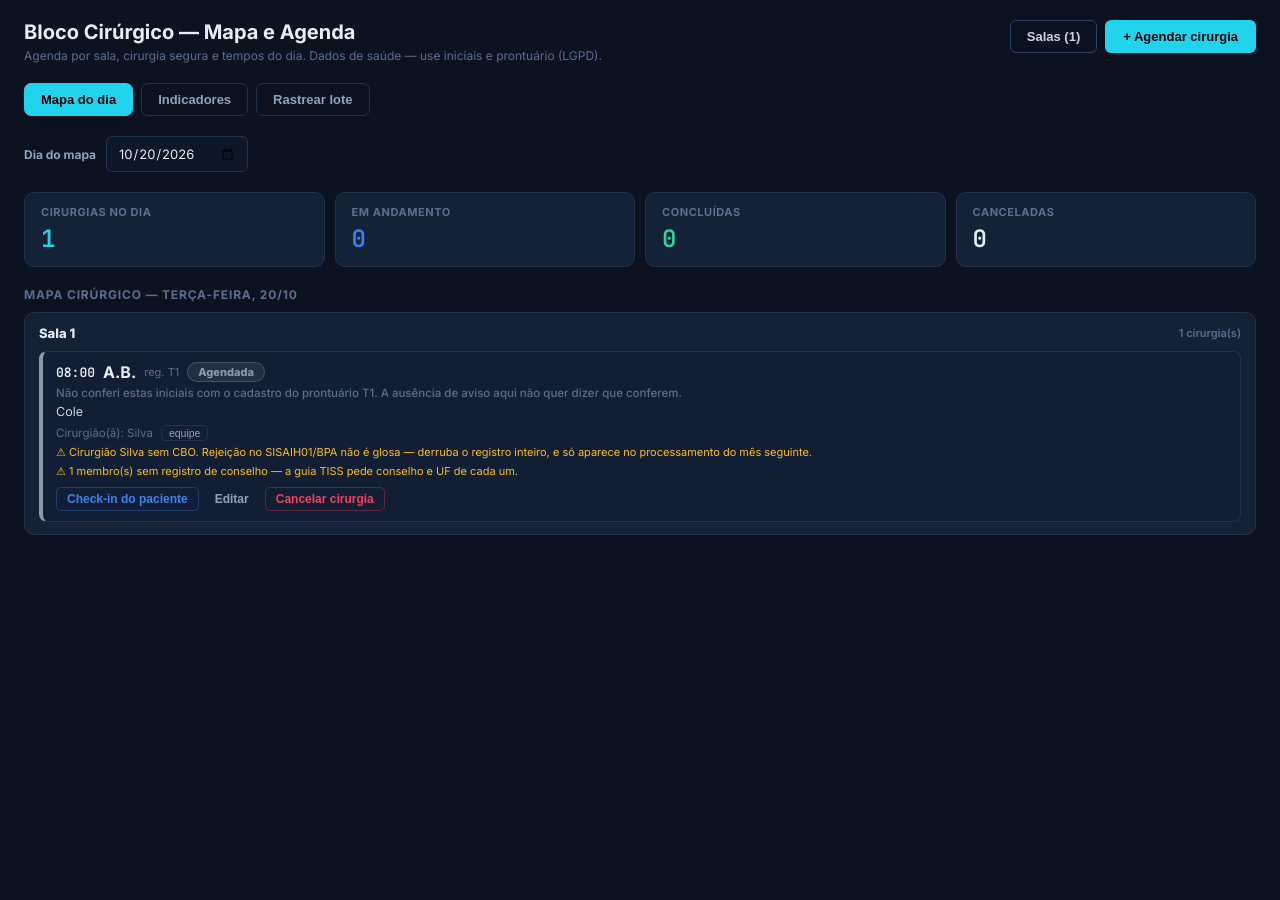
Test case: 🔴 acrescentar membro carimba o CBO do cadastro › 🔴 o segundo cirurgião é recusado ANTES de ir ao banco
Click the button "equipe": click(185, 433) 161,425 -> 208,441
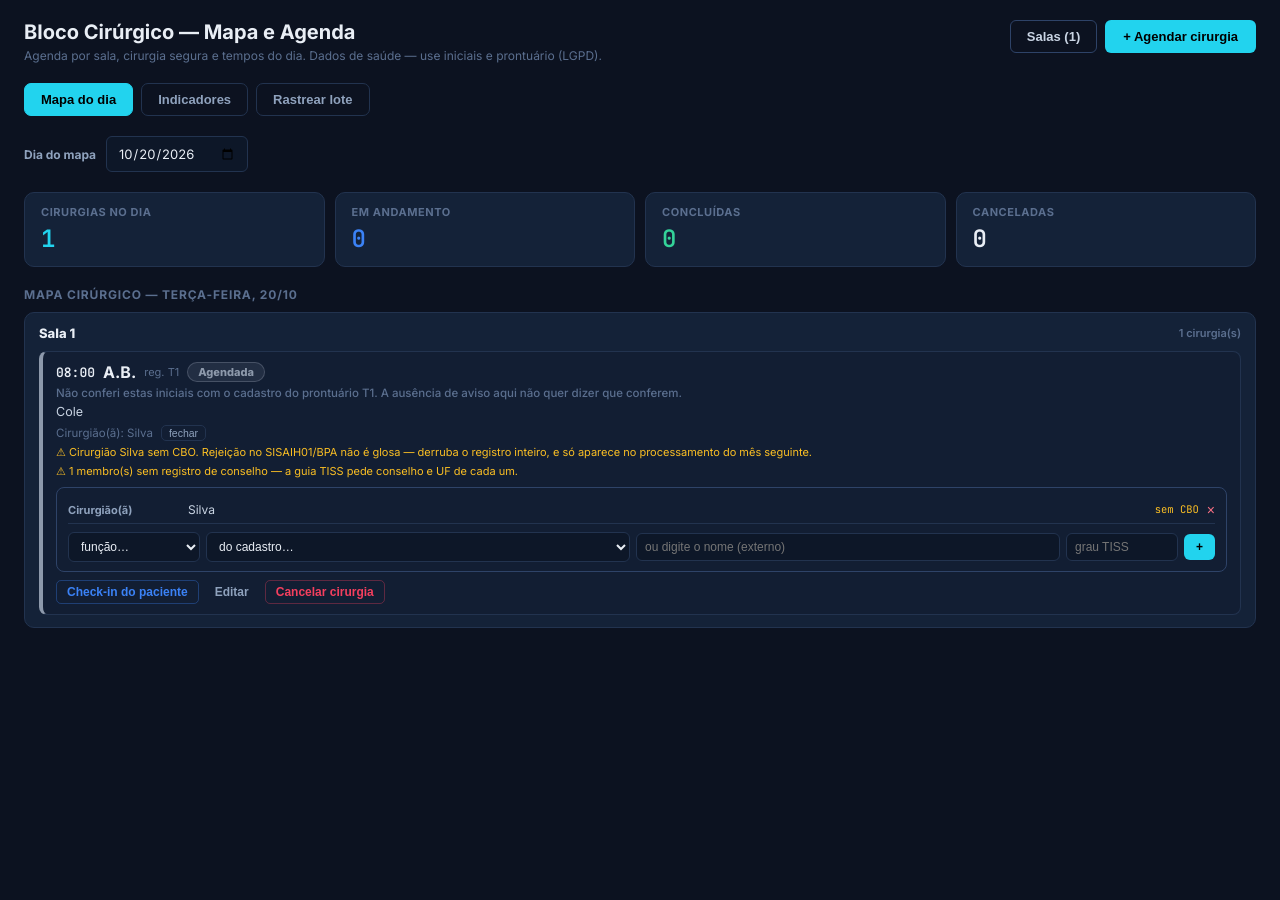
Select "Cirurgião(ã)" in the dropdown named "Função na sala": (134, 547) 68,532 -> 200,562
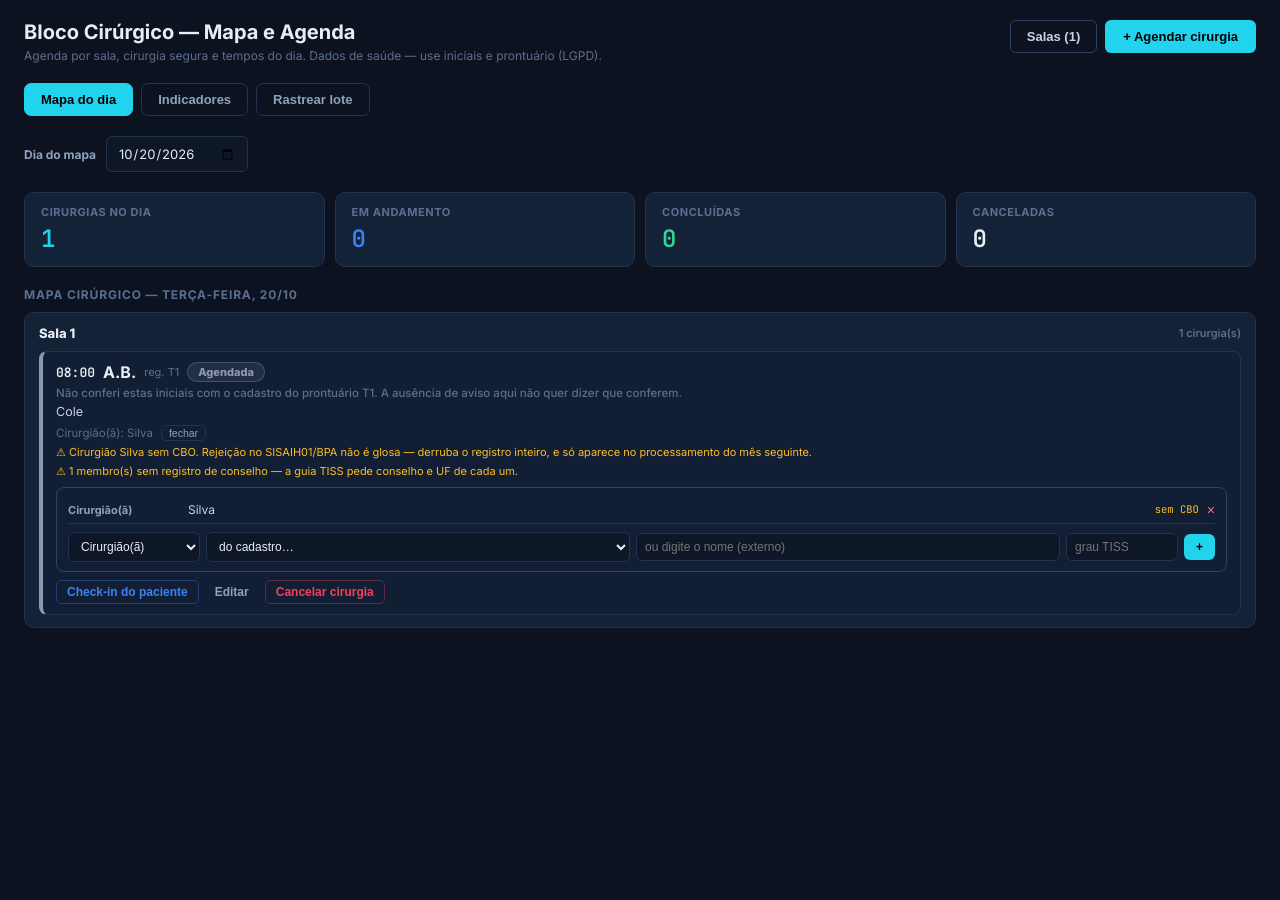
Select "Ana Souza" in the dropdown named "Profissional do cadastro": (418, 547) 206,532 -> 630,562
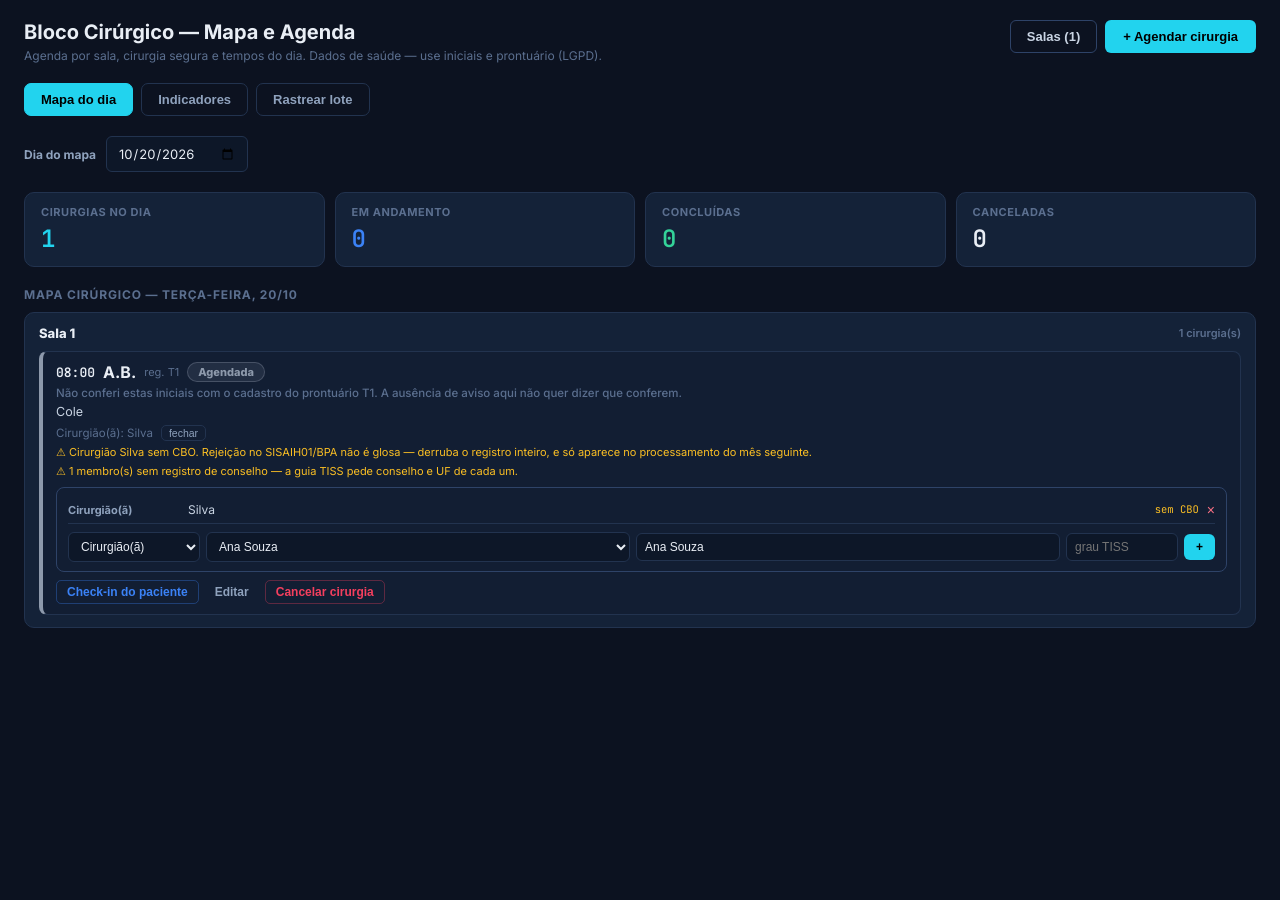
Click the button "+": click(1200, 547) 1184,534 -> 1215,560
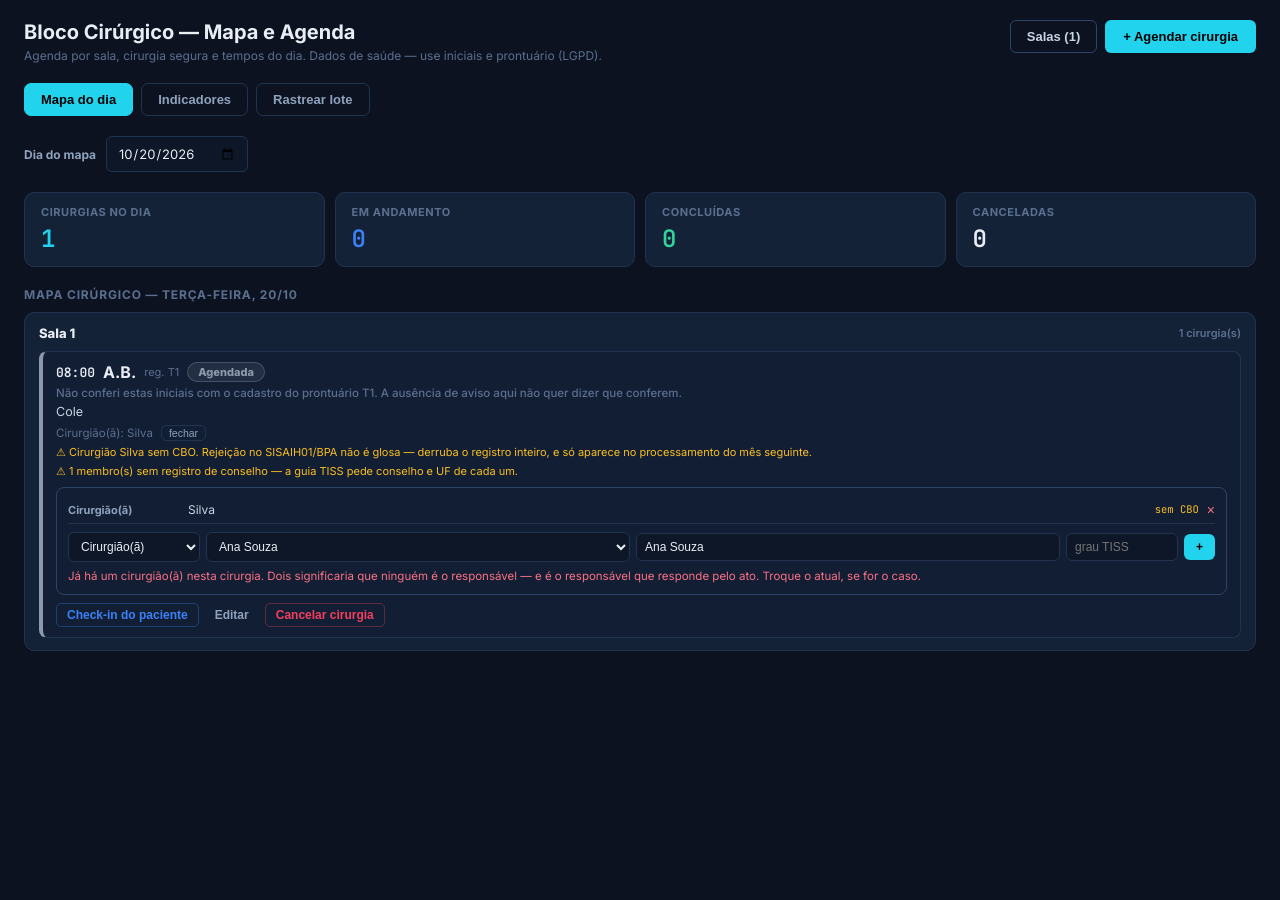
Expected: the text "Já há um cirurgião" is shown, 68,569 -> 921,583
